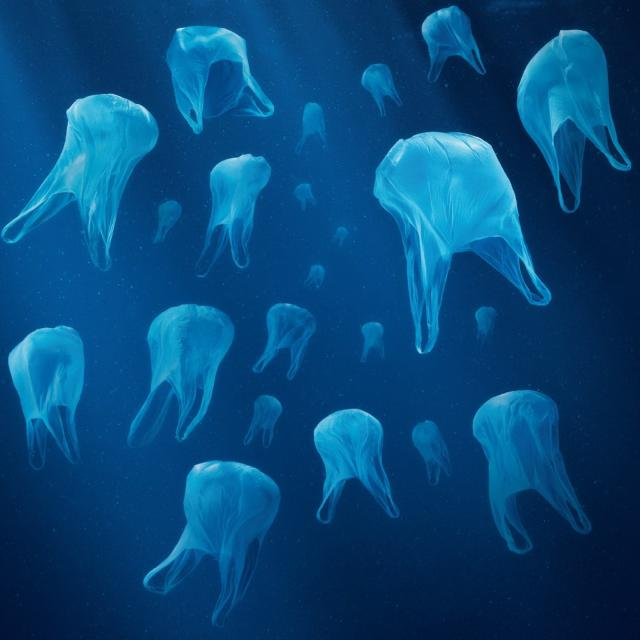Single-layer Plastic: (374, 132, 551, 353), (2, 94, 159, 269), (144, 461, 280, 625), (518, 30, 631, 212), (472, 390, 591, 554), (128, 304, 234, 444), (166, 26, 274, 134), (9, 326, 84, 469), (314, 409, 399, 522), (196, 154, 271, 276), (421, 6, 485, 81), (252, 304, 316, 379), (412, 420, 451, 484), (361, 64, 402, 116), (244, 395, 282, 448), (295, 102, 328, 153), (154, 200, 181, 243), (361, 322, 384, 362), (475, 306, 498, 346)
